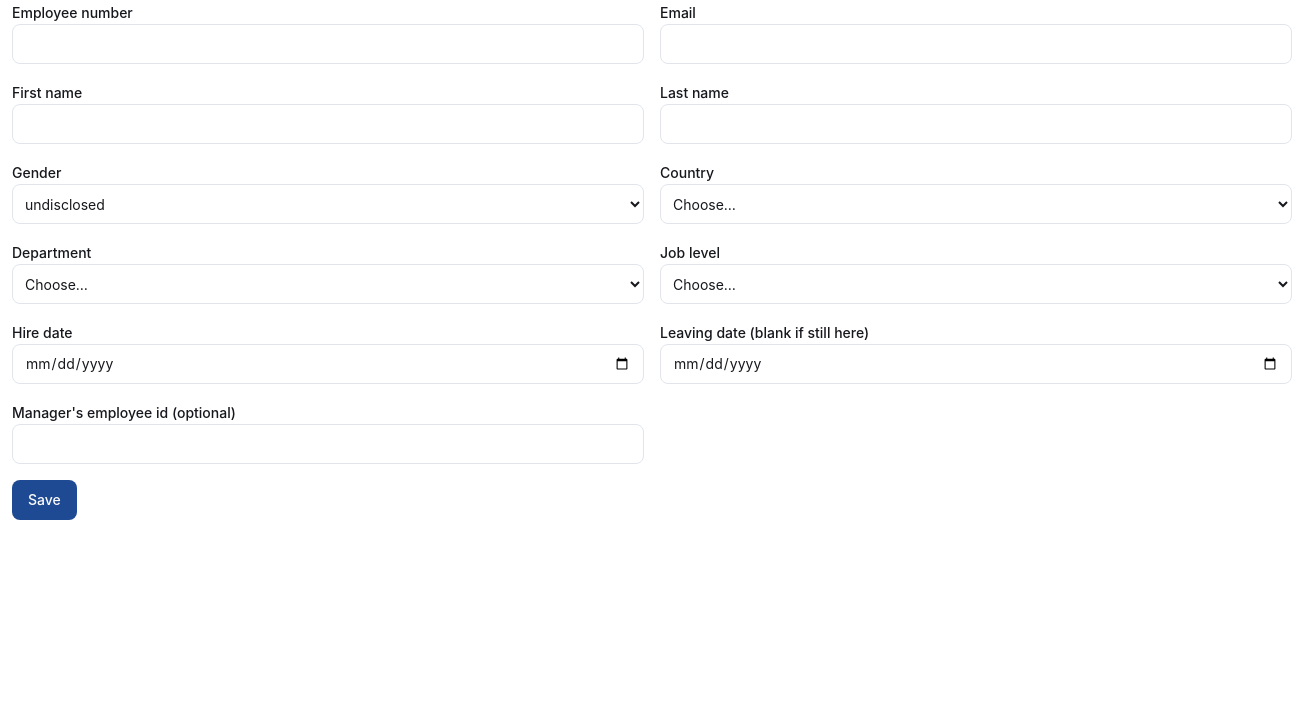
it: EmployeeForm › refuses an empty joiner without asking the server
This screenshot has width=1304, height=720.
Click the button "Save" at (44, 500), box [12,480,77,520]
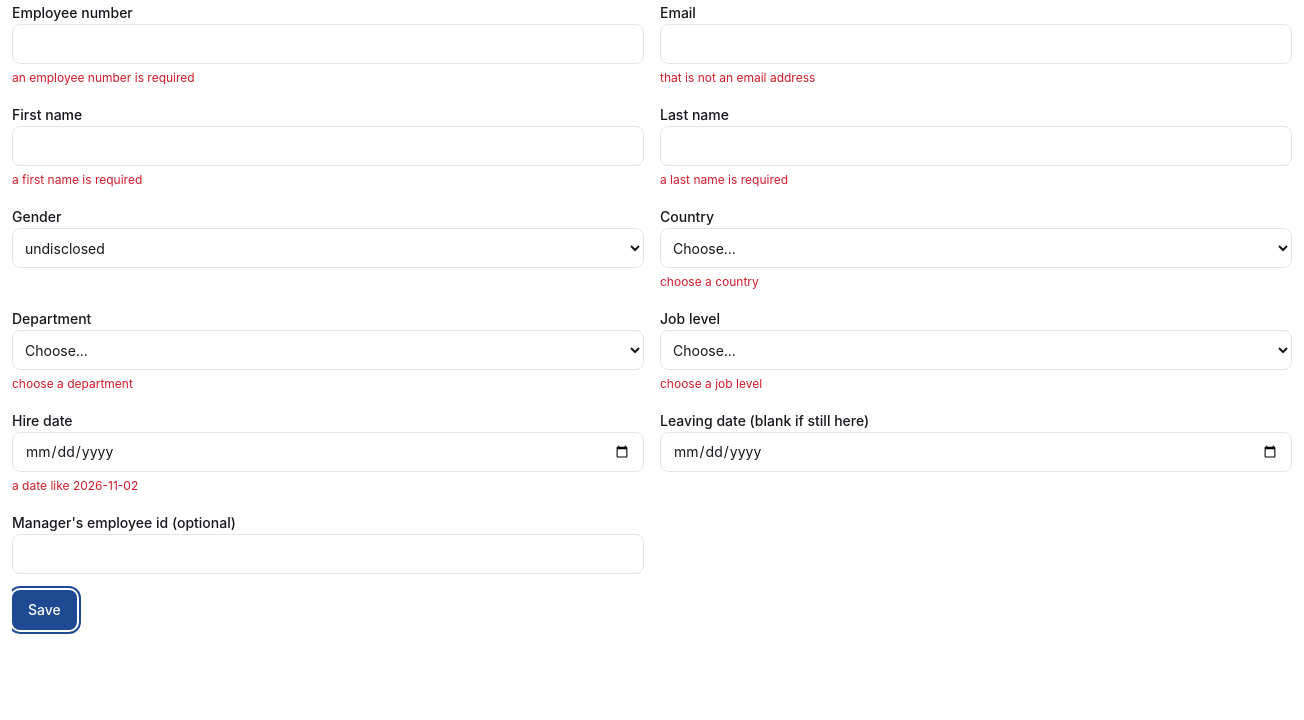
Check: the text "an employee number is required" is shown, box [12,70,195,85]
